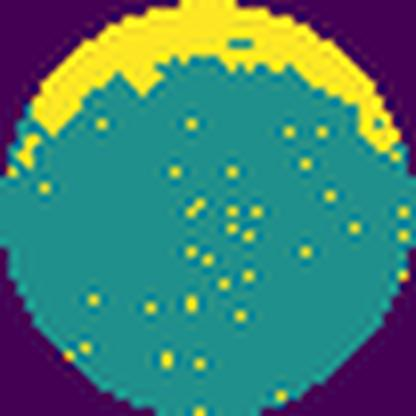Edge-Loc: (25, 0, 409, 162)
